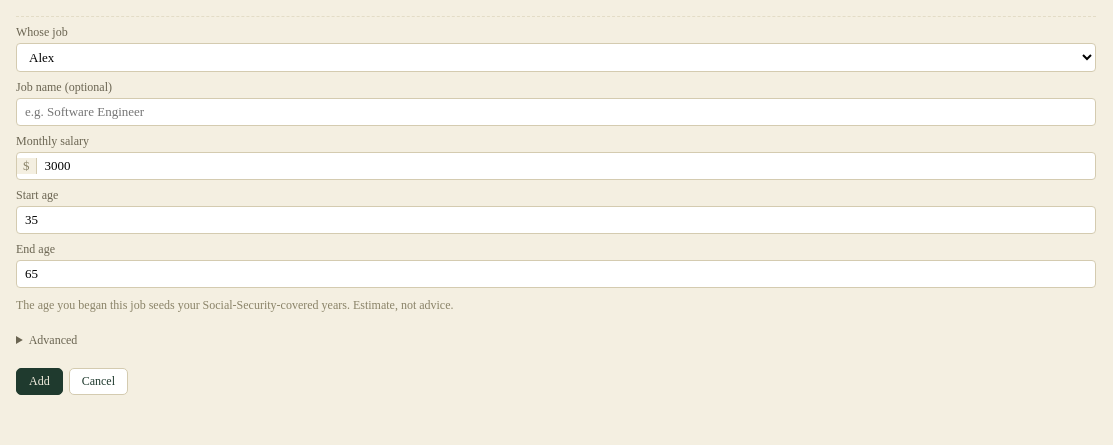
Scenario: JobForm — the owner picker resets start age › switching to an OLDER owner resets start age to their current age
Expected: the number field labelled "Start age" holds "35", [17, 207, 1095, 233]
Select "Sam" in the dropdown labelled "Whose job" at (556, 58), box [16, 43, 1096, 72]
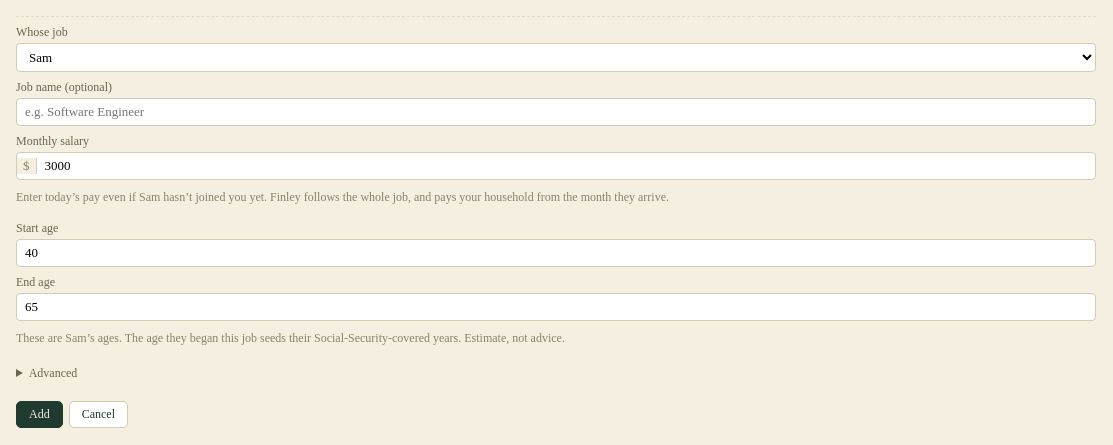
Now the number field labelled "Start age" holds "40", box [17, 240, 1095, 266]
